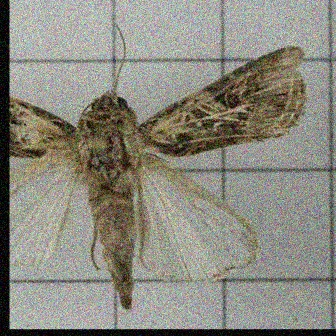Spodoptera litura: (10, 22, 308, 312)
